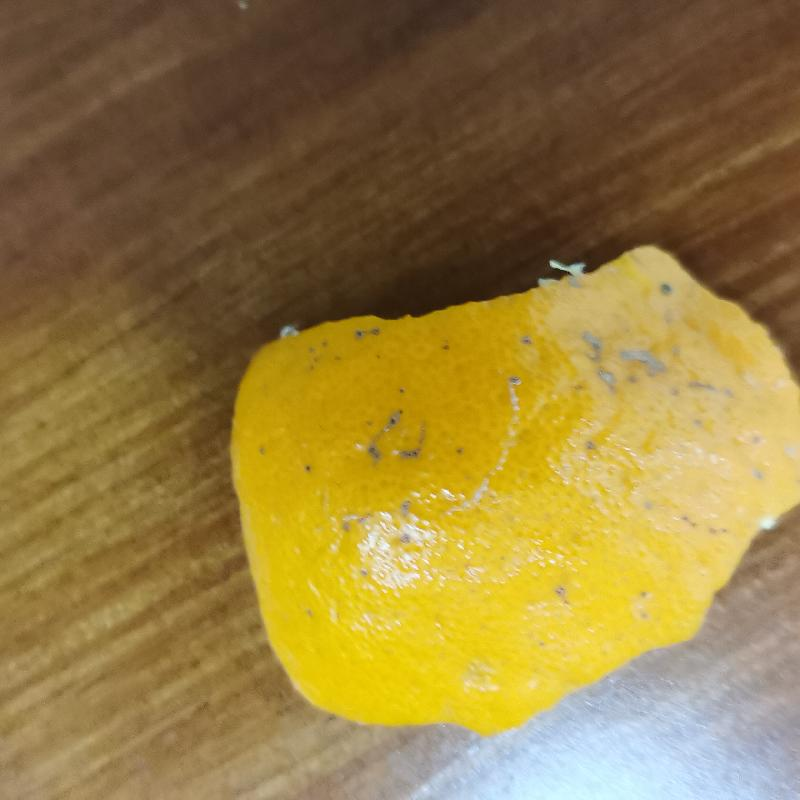orange: (214, 241, 800, 744)
